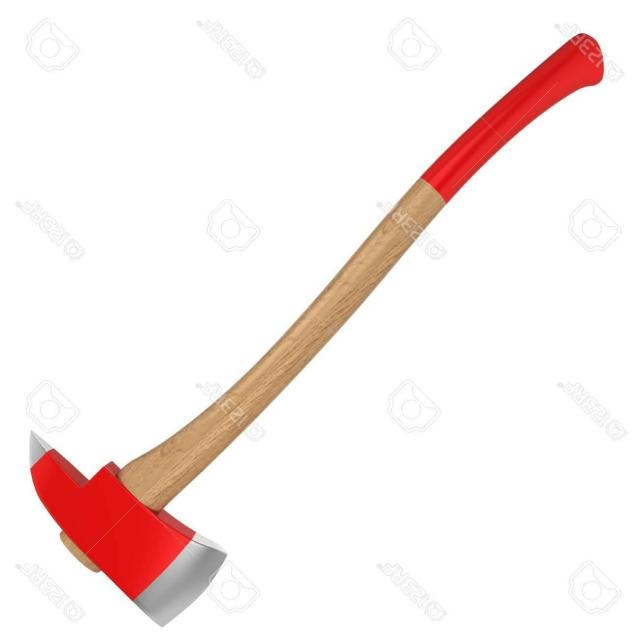Kapak: (39, 26, 602, 625)
